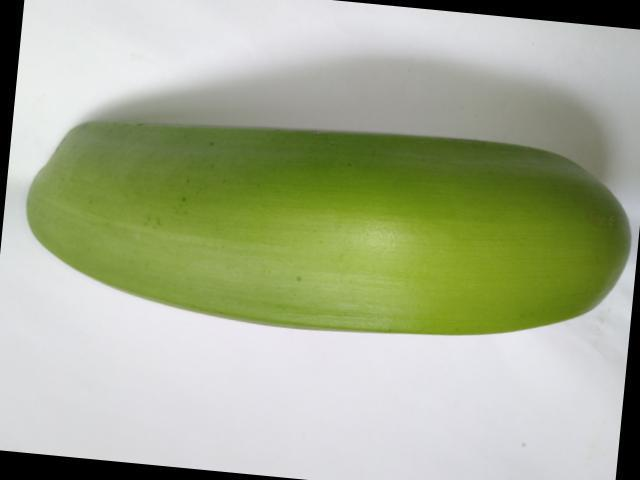freshunripe: (16, 95, 639, 372)
